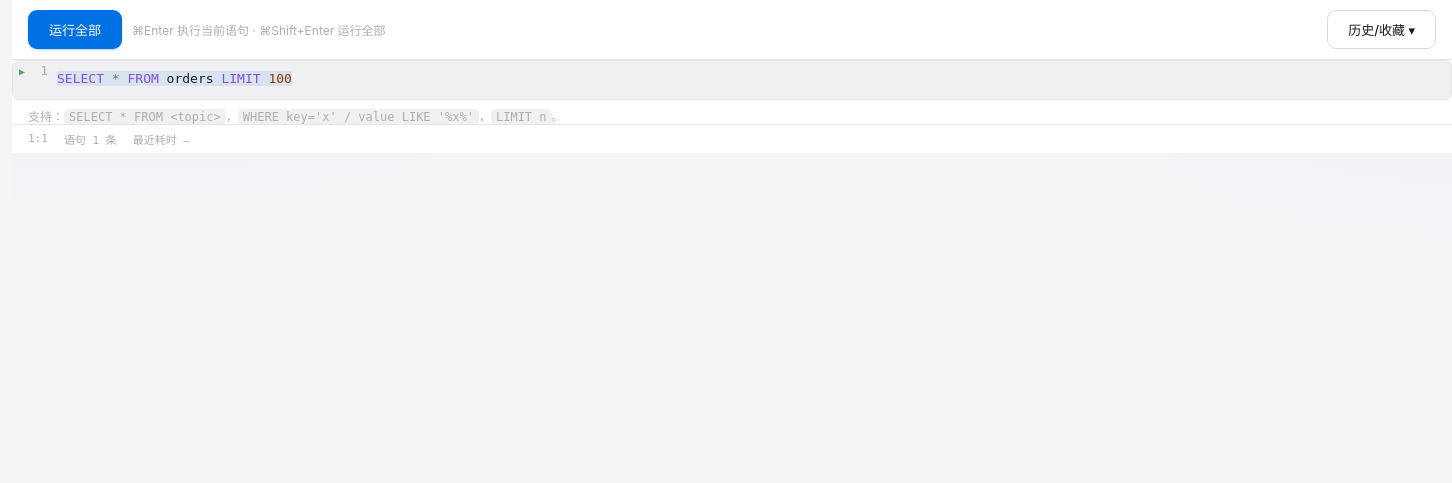
Test: SqlConsole › surfaces backend errors on the result card error slot
Click the button with test id "btn-run": (75, 30) [28,10,122,49]
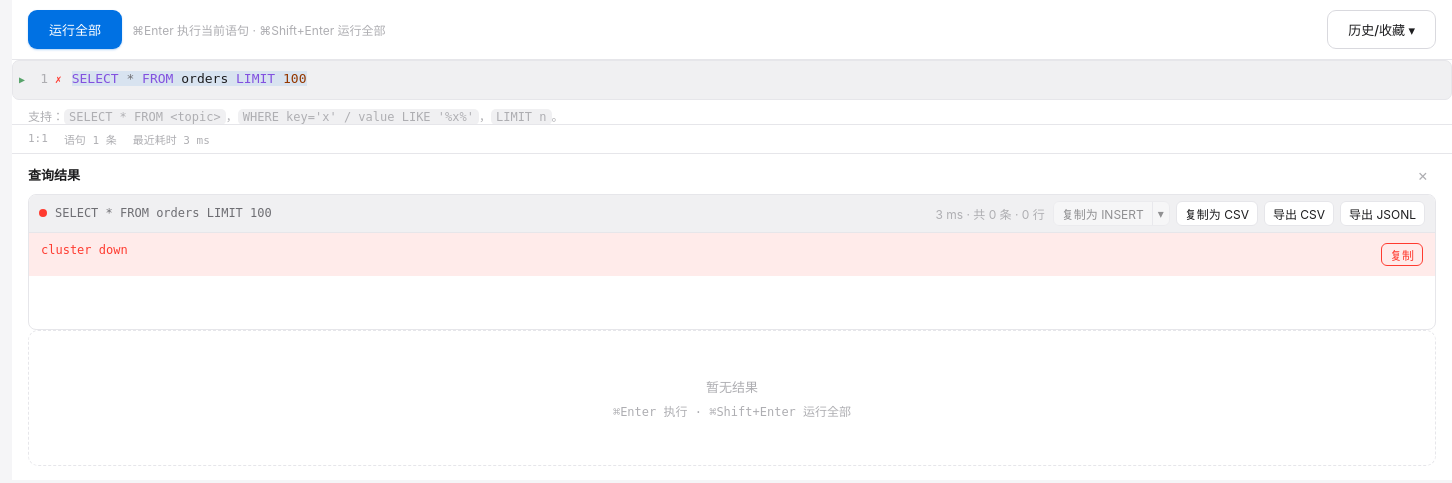
Expected: the text "cluster down" is shown, [41,242,128,256]
Expected: the element that starts with "SELECT * FROM orders LIMIT 100" is shown, [28,194,1436,330]
